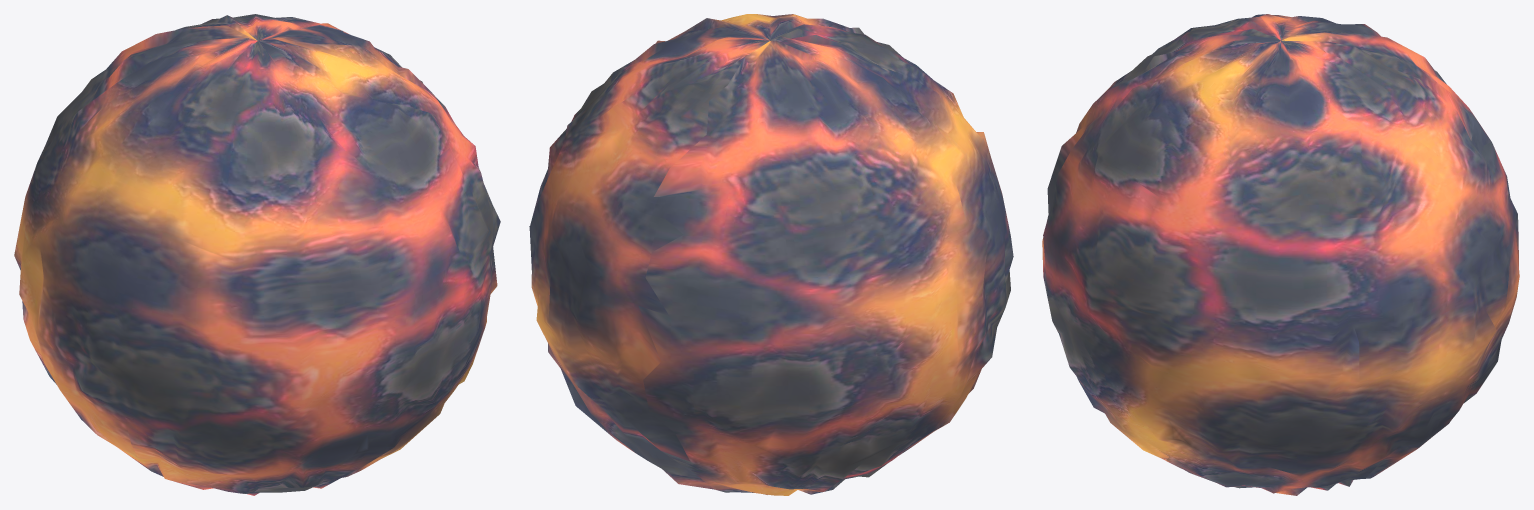
File: boulder.glb
3 views of the same model, side by side, from view 1: azimuth 30°, elevation 25°; view 2: azimuth 150°, elevation 25°; view 3: azimuth 270°, elevation 25° (orthographic).
Parts seen in each view (by area): view 1: boulder; view 2: boulder; view 3: boulder.
Boxes of the visible parts, <box> form: boulder: <box>14,14,500,495</box>; boulder: <box>529,14,1013,495</box>; boulder: <box>1042,14,1519,495</box>.
Bounding box in the file's own units: 1.78 × 1.77 × 1.75.
Materials: 1 (1 with a texture image).
